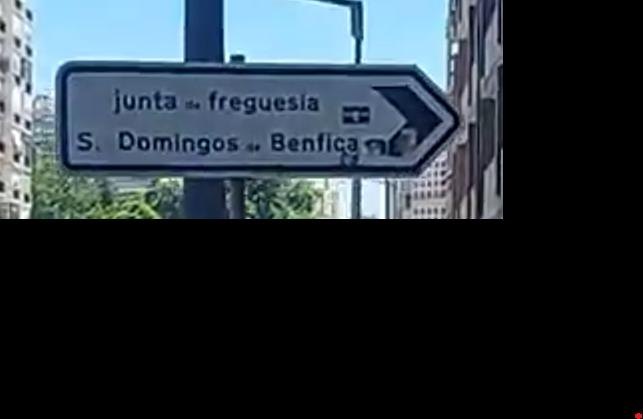pre-aviso reduzido: (51, 60, 465, 182)
